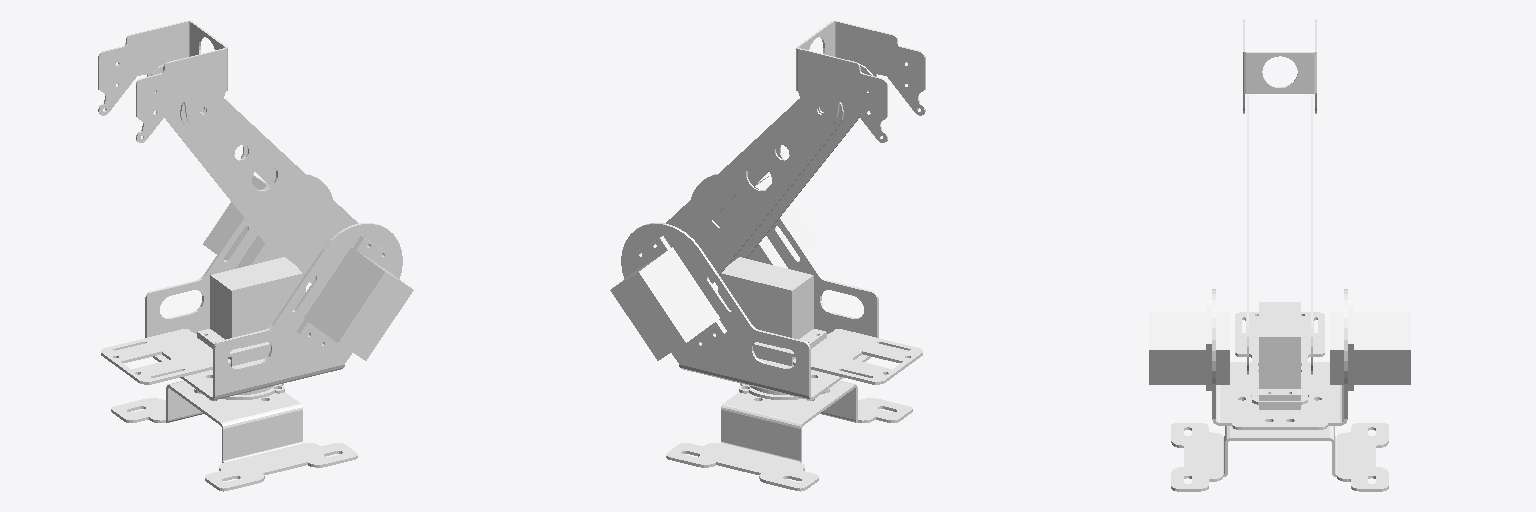
URDF robot description (arm):
<?xml version="1.0" encoding="utf-8"?>
<!-- This URDF was automatically created by SolidWorks to URDF Exporter! Originally created by [author] ([email redacted]) 
     Commit Version: 1.5.1-0-g916b5db  Build Version: 1.5.7152.31018
     For more information, please see http://wiki.ros.org/sw_urdf_exporter -->
<robot
  name="arm">
  <link
    name="base_link">
    <inertial>
      <origin
        xyz="0.0012013 -7.7679E-07 0.00056561"
        rpy="0 0 0" />
      <mass
        value="0.019201" />
      <inertia
        ixx="1.3605E-05"
        ixy="1.9297E-11"
        ixz="-2.7648E-07"
        iyy="6.9702E-06"
        iyz="1.7403E-10"
        izz="1.3961E-05" />
    </inertial>
    <visual>
      <origin
        xyz="0 0 0"
        rpy="0 0 0" />
      <geometry>
        <mesh
          filename="package://arm/meshes/base_link.STL" />
      </geometry>
      <material
        name="">
        <color
          rgba="1 1 1 1" />
      </material>
    </visual>
    <collision>
      <origin
        xyz="0 0 0"
        rpy="0 0 0" />
      <geometry>
        <mesh
          filename="package://arm/meshes/base_link.STL" />
      </geometry>
    </collision>
  </link>
  <link
    name="link0">
    <inertial>
      <origin
        xyz="0.02454 1.9429E-16 0.039874"
        rpy="0 0 0" />
      <mass
        value="0.11549" />
      <inertia
        ixx="0.00017008"
        ixy="7.5344E-13"
        ixz="-2.4817E-05"
        iyy="7.9527E-05"
        iyz="-9.4232E-19"
        izz="0.00019136" />
    </inertial>
    <visual>
      <origin
        xyz="0 0 0"
        rpy="0 0 0" />
      <geometry>
        <mesh
          filename="package://arm/meshes/link0.STL" />
      </geometry>
      <material
        name="">
        <color
          rgba="1 1 1 1" />
      </material>
    </visual>
    <collision>
      <origin
        xyz="0 0 0"
        rpy="0 0 0" />
      <geometry>
        <mesh
          filename="package://arm/meshes/link0.STL" />
      </geometry>
    </collision>
  </link>
  <joint
    name="joint0"
    type="revolute">
    <origin
      xyz="0.002546 0 0.009"
      rpy="0 0 0" />
    <parent
      link="base_link" />
    <child
      link="link0" />
    <axis
      xyz="0 0 1" />
    <limit
      lower="-3.14"
      upper="3.14"
      effort="0"
      velocity="0" />
  </joint>
  <link
    name="link1">
    <inertial>
      <origin
        xyz="-0.03132 -0.0155 0.039571"
        rpy="0 0 0" />
      <mass
        value="0.0076158" />
      <inertia
        ixx="1.0244E-05"
        ixy="-6.9435E-20"
        ixz="6.1784E-06"
        iyy="1.3912E-05"
        iyz="2.2095E-19"
        izz="7.3282E-06" />
    </inertial>
    <visual>
      <origin
        xyz="0 0 0"
        rpy="0 0 0" />
      <geometry>
        <mesh
          filename="package://arm/meshes/link1.STL" />
      </geometry>
      <material
        name="">
        <color
          rgba="1 1 1 1" />
      </material>
    </visual>
    <collision>
      <origin
        xyz="0 0 0"
        rpy="0 0 0" />
      <geometry>
        <mesh
          filename="package://arm/meshes/link1.STL" />
      </geometry>
    </collision>
  </link>
  <joint
    name="joint1"
    type="revolute">
    <origin
      xyz="0.044786 0.0155 0.05785"
      rpy="0 0 0" />
    <parent
      link="link0" />
    <child
      link="link1" />
    <axis
      xyz="0 1 0" />
    <limit
      lower="-3.14"
      upper="3.14"
      effort="0"
      velocity="0" />
  </joint>
  <link
    name="link2">
    <inertial>
      <origin
        xyz="-0.006606 -0.018 0.013194"
        rpy="0 0 0" />
      <mass
        value="0.0033654" />
      <inertia
        ixx="1.2388E-06"
        ixy="-2.0517E-22"
        ixz="-8.5437E-08"
        iyy="1.1083E-06"
        iyz="-6.5E-22"
        izz="1.7476E-06" />
    </inertial>
    <visual>
      <origin
        xyz="0 0 0"
        rpy="0 0 0" />
      <geometry>
        <mesh
          filename="package://arm/meshes/link2.STL" />
      </geometry>
      <material
        name="">
        <color
          rgba="1 1 1 1" />
      </material>
    </visual>
    <collision>
      <origin
        xyz="0 0 0"
        rpy="0 0 0" />
      <geometry>
        <mesh
          filename="package://arm/meshes/link2.STL" />
      </geometry>
    </collision>
  </link>
  <joint
    name="joint2"
    type="revolute">
    <origin
      xyz="-0.074474 0.0025 0.094094"
      rpy="0 0 0" />
    <parent
      link="link1" />
    <child
      link="link2" />
    <axis
      xyz="0 1 0" />
    <limit
      lower="-3.14"
      upper="3.14"
      effort="0"
      velocity="0" />
  </joint>
</robot>

--- What the picture shows (computed from the rendered views, not written in the file) ---
Views: 3 orthographic renders of the robot side by side, from view 1: azimuth 30°, elevation 25°; view 2: azimuth 150°, elevation 25°; view 3: azimuth 270°, elevation 25°.
Robot: arm — 4 links, 3 joints (3 revolute); root link base_link; default pose: all joints at 0.
Links seen in each view (by area): view 1: link0, link1, base_link, link2; view 2: link0, link1, base_link, link2; view 3: link0, base_link, link2, link1.
Boxes of the visible links, x1,y1,x2,y2 form: link0: (101, 174, 413, 400); link1: (151, 64, 357, 283); base_link: (111, 381, 357, 491); link2: (98, 21, 227, 142); link0: (610, 174, 922, 400); link1: (666, 64, 872, 283); base_link: (666, 381, 912, 491); link2: (796, 21, 925, 142); link0: (1149, 289, 1410, 429); base_link: (1171, 400, 1388, 491); link2: (1243, 20, 1316, 113); link1: (1247, 94, 1312, 374).
Size in the robot's own frame: 0.135 by 0.126 by 0.2092 metres.
Meshes: 4 distinct files referenced, 4 mesh visuals loaded (4 binary STL).